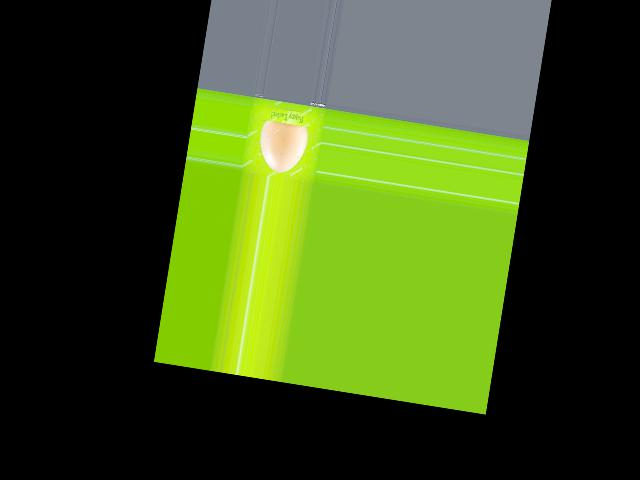egg: (255, 120, 308, 175)
